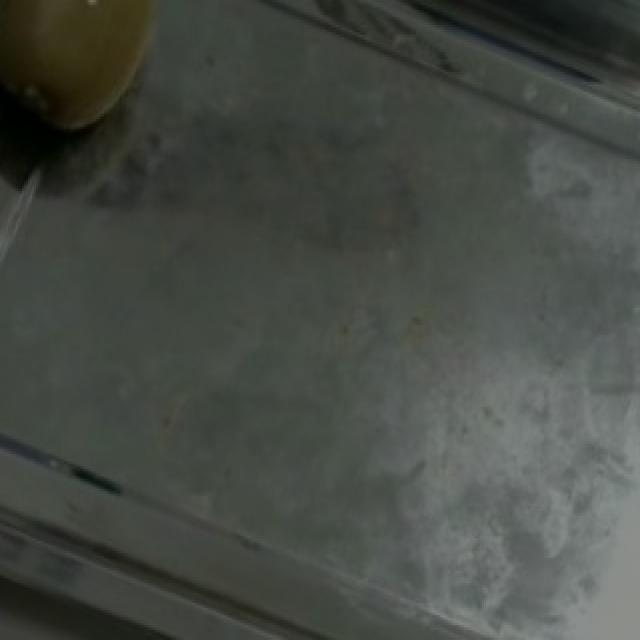Fruit: (2, 0, 200, 169)
